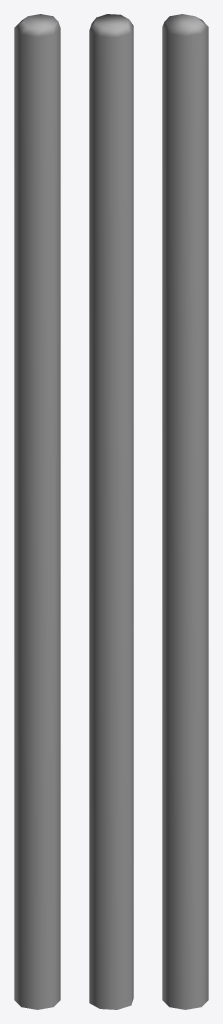
File: Pole.fbx
The picture shows the model from 3 angles, left to right: view 1: azimuth 90°, elevation 25°; view 2: azimuth 150°, elevation 25°; view 3: azimuth 270°, elevation 25°; orthographic projection.
Parts seen in each view (by area): view 1: Pole; view 2: Pole; view 3: Pole.
Part boxes in pixels (x1,y1,x2,y2): Pole: (14, 14, 60, 1009); Pole: (89, 14, 133, 1009); Pole: (162, 14, 208, 1009).
Bounding box in the file's own units: 0.7447 × 17.46 × 0.7447.
